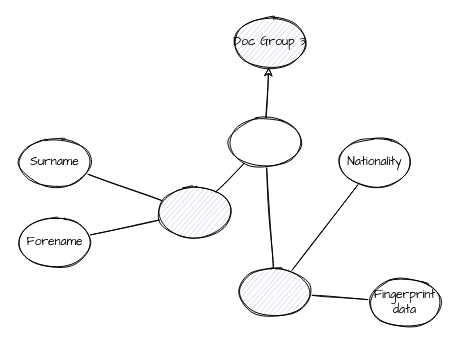
The diagram is 460 pixels wide and 345 high, and some of its shapes have lost their labels. Each missing label, with the centre of its shape:
Date of birth: point 264,142
Doc Group 1: point 194,212
Doc Group 2: point 274,292
